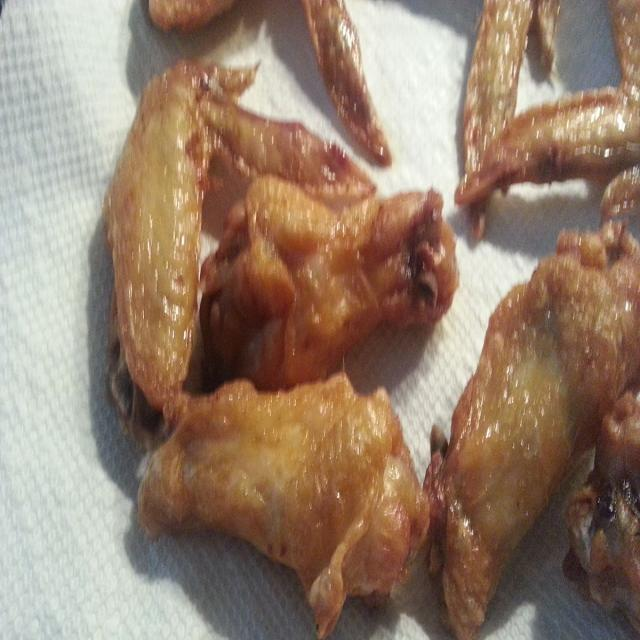Frango: (115, 1, 423, 637), (432, 0, 640, 632)
